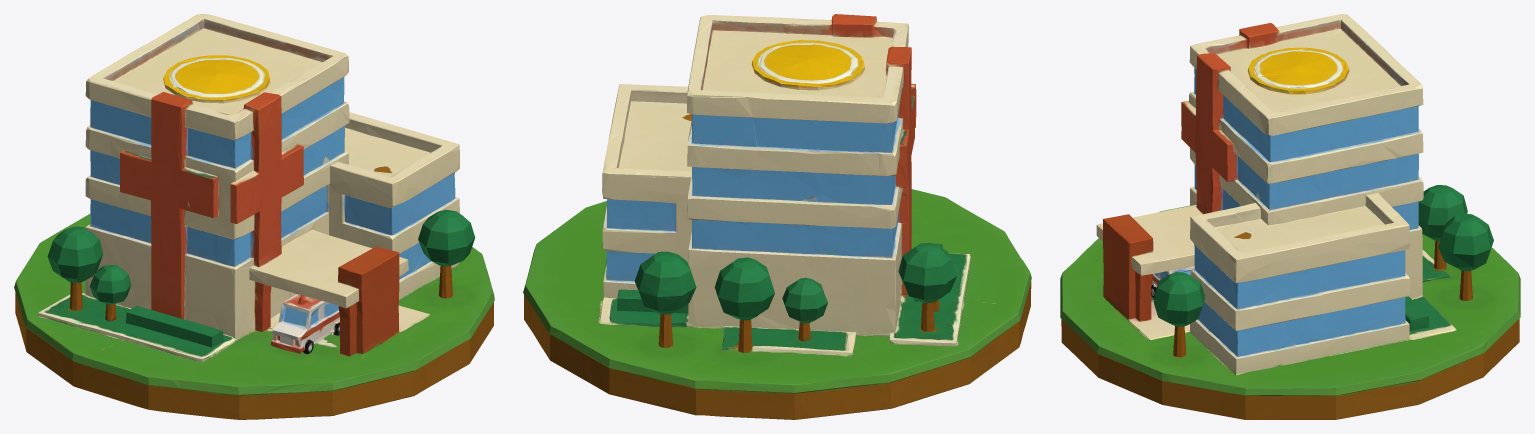
The model's file is rio-hospital.glb.
3 renders of one model, left to right at view 1: azimuth 30°, elevation 25°; view 2: azimuth 150°, elevation 25°; view 3: azimuth 270°, elevation 25°, orthographic. The views are drawn at different scales.
Parts seen in each view (by area): view 1: tripo_node_3c8c9428-a582-4ebe-bd07-2b5d996fd243; view 2: tripo_node_3c8c9428-a582-4ebe-bd07-2b5d996fd243; view 3: tripo_node_3c8c9428-a582-4ebe-bd07-2b5d996fd243.
Boxes of the visible parts, x1=… form: tripo_node_3c8c9428-a582-4ebe-bd07-2b5d996fd243: x1=14, y1=14, x2=494, y2=419; tripo_node_3c8c9428-a582-4ebe-bd07-2b5d996fd243: x1=523, y1=14, x2=1031, y2=419; tripo_node_3c8c9428-a582-4ebe-bd07-2b5d996fd243: x1=1060, y1=14, x2=1520, y2=419.
Bounding box in the file's own units: 0.998 × 0.5931 × 0.9998.
1 material, 1 textured.
